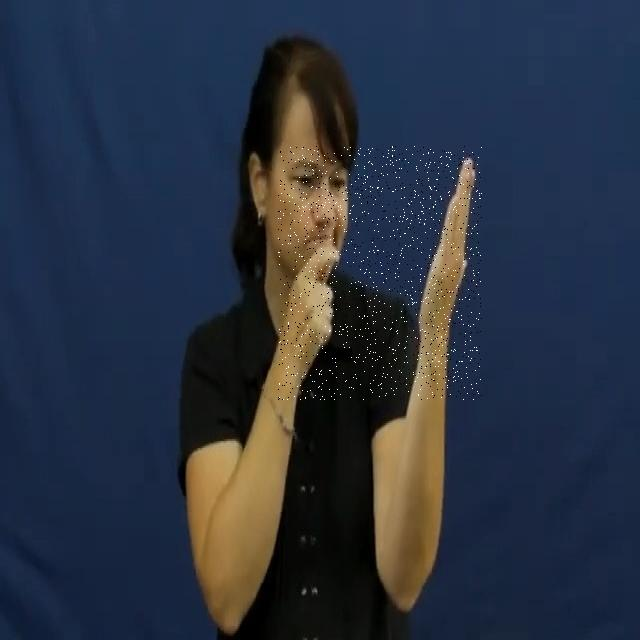menu: (278, 146, 482, 400)
